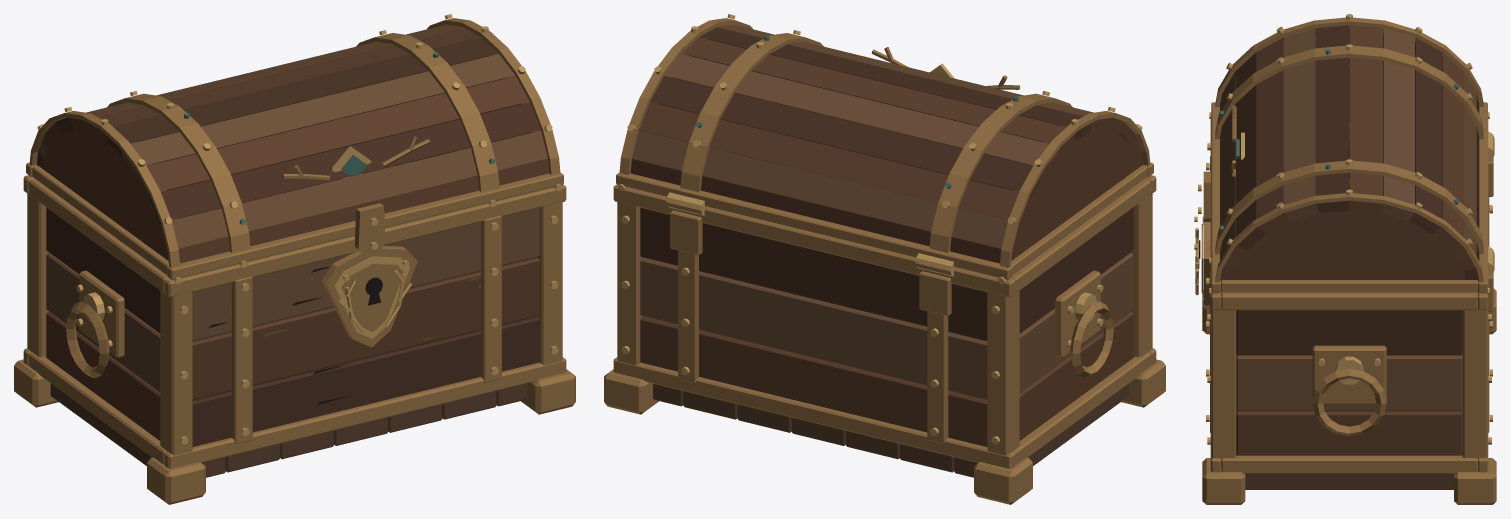
Rendered from bau-das-lendas.glb.
3 views of the same model, side by side, from view 1: azimuth 30°, elevation 25°; view 2: azimuth 150°, elevation 25°; view 3: azimuth 270°, elevation 25° (orthographic). The views are drawn at different scales.
Visible parts, largest first — view 1: Base, Tampa; view 2: Base, Tampa; view 3: Tampa, Base.
Part boxes in pixels (x1,y1,x2,y2): Base: (14,148,575,504); Tampa: (26,14,563,284); Base: (604,148,1165,504); Tampa: (616,14,1153,284); Tampa: (1198,14,1489,294); Base: (1194,119,1496,504).
Bounding box in the file's own units: 1.57 × 1.15 × 1.02.
